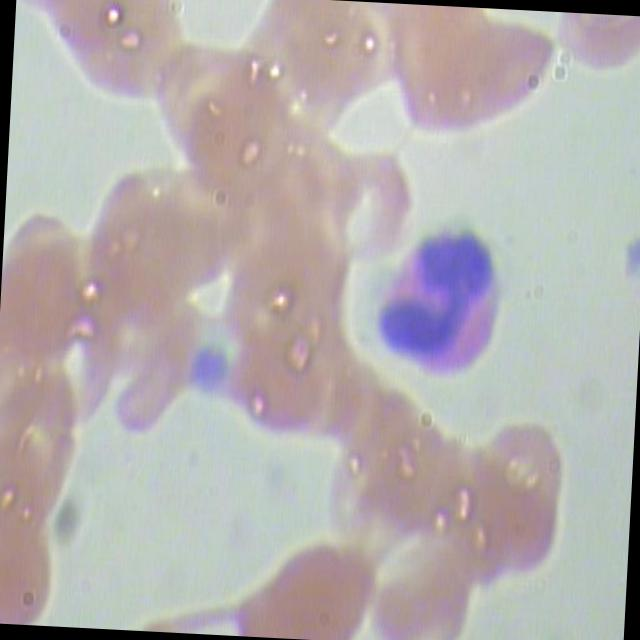Platelets: (186, 348, 238, 398), (613, 229, 640, 282)
RBC: (390, 11, 562, 150), (87, 163, 207, 339), (0, 207, 101, 380), (476, 421, 571, 598), (0, 348, 94, 521), (228, 534, 381, 640), (222, 326, 338, 444), (143, 42, 244, 176), (197, 85, 298, 218), (314, 138, 414, 271), (88, 0, 195, 122), (364, 532, 479, 640), (0, 490, 69, 627)
WBC: (360, 218, 530, 396)
